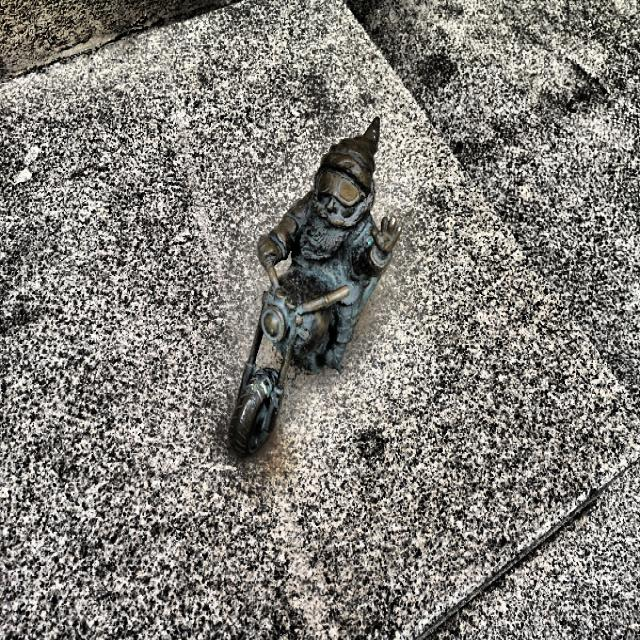Wentyl: (229, 118, 401, 457)
